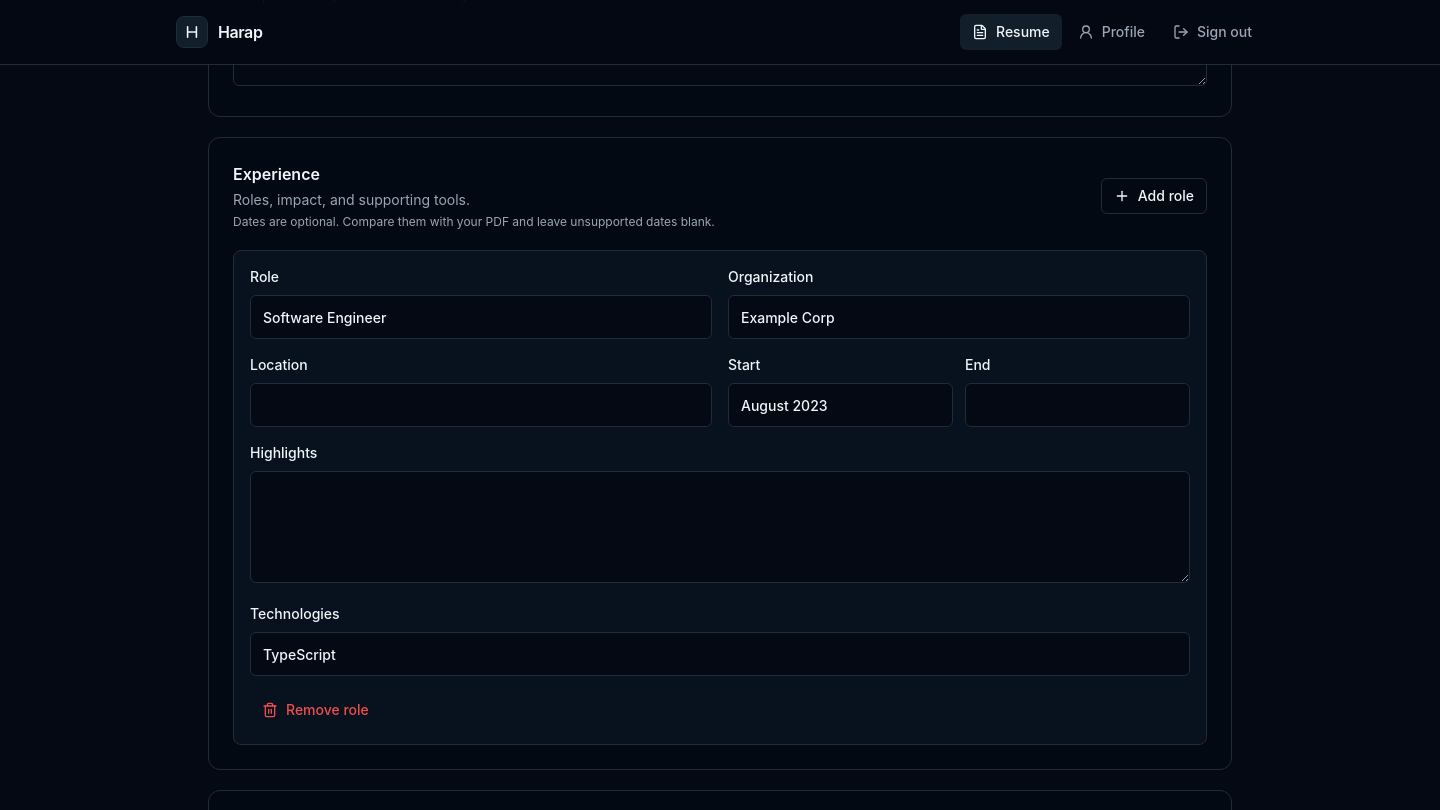
Test: Harap application flows › keeps missing and extracted experience and education dates editable
The image size is (1440, 810).
(page scrolled)
Expected: the field labelled "Start" holds "August 2023", [728,383,953,427]
Step 1. Type "Present" into the field labelled "End" → (1078, 405), box [965,383,1190,427]
(page scrolled)
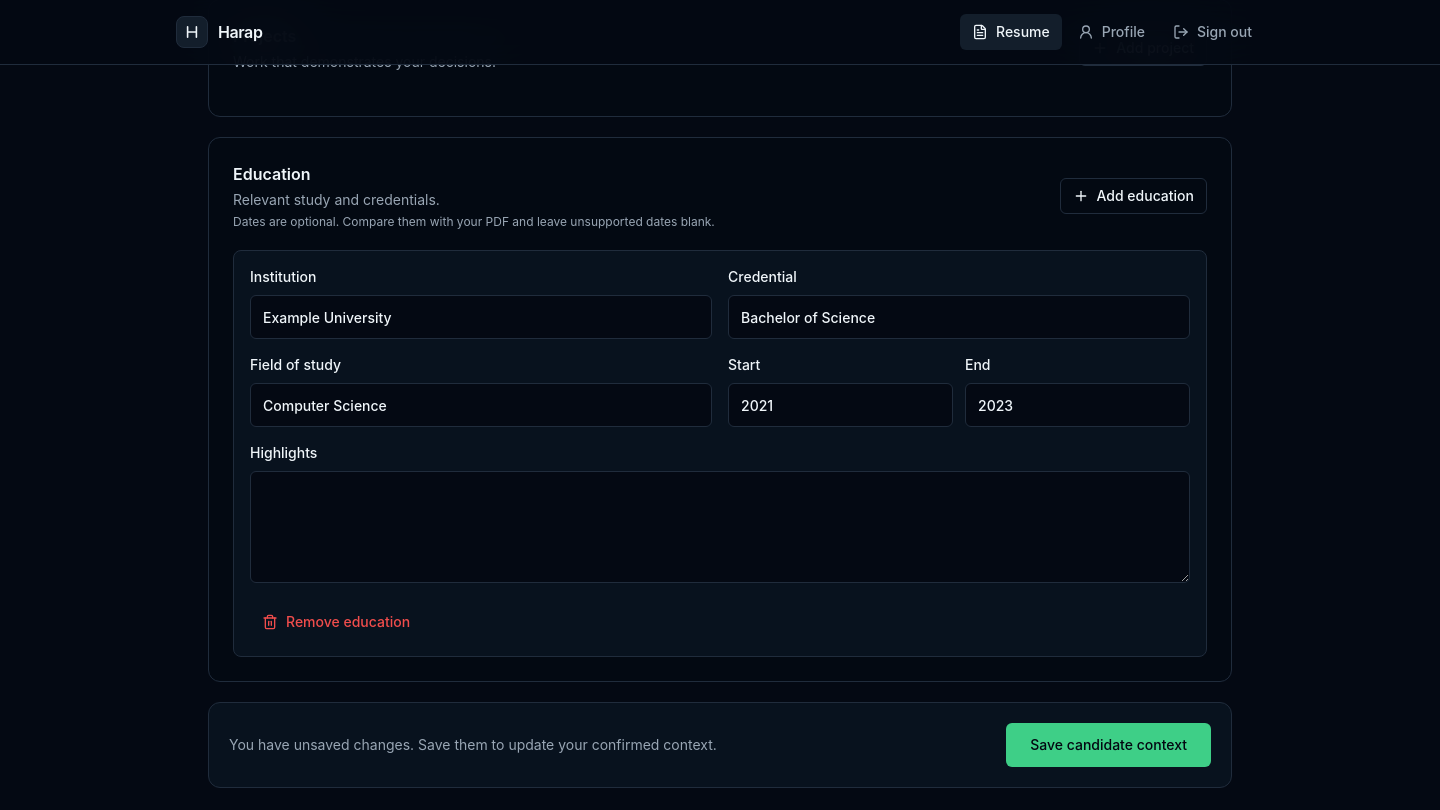
Step 2. Replace the text in the field labelled "Start" with "2020" → (840, 405), box [728,383,953,427]
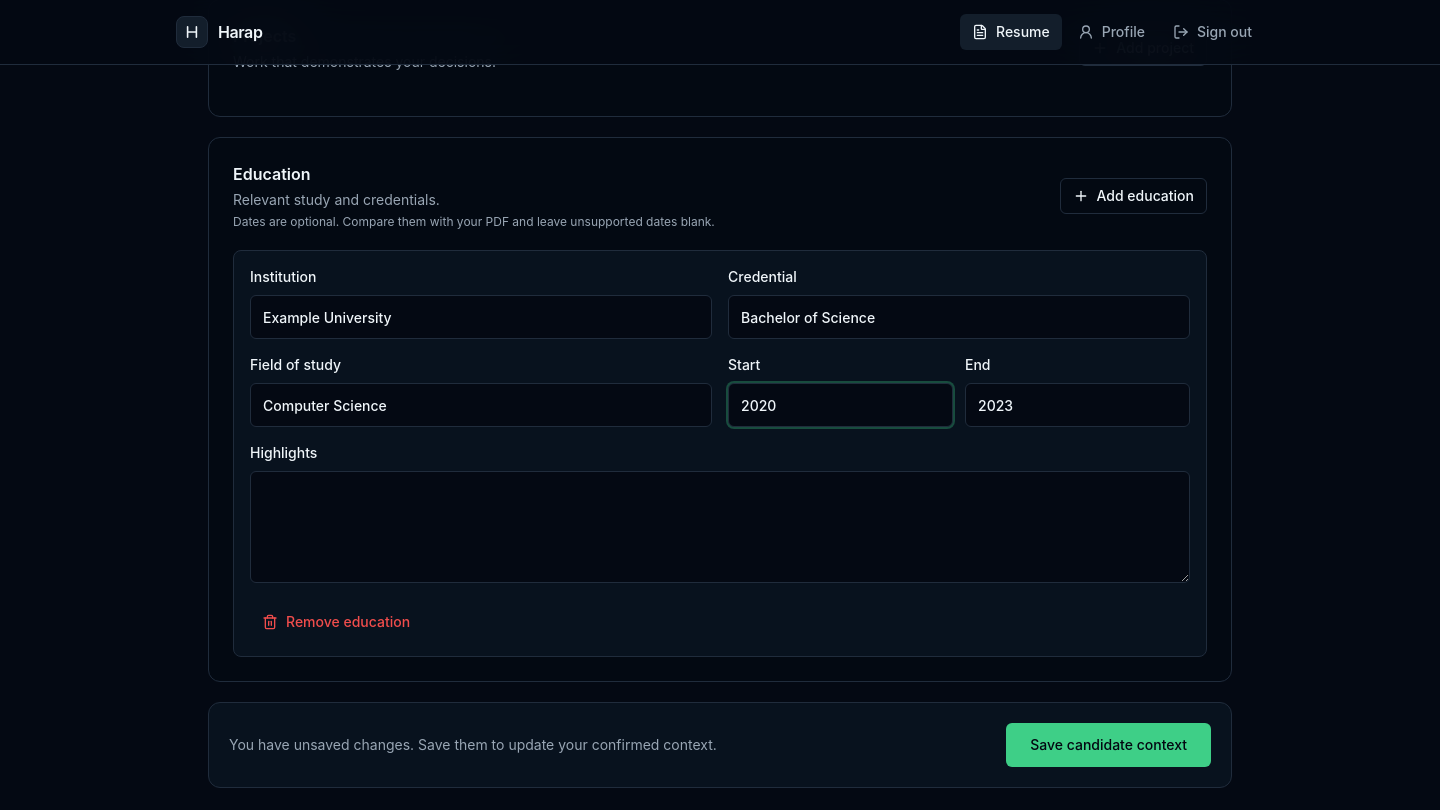
Step 3. Click the button "Save candidate context" → (1109, 745), box [1006,723,1211,767]
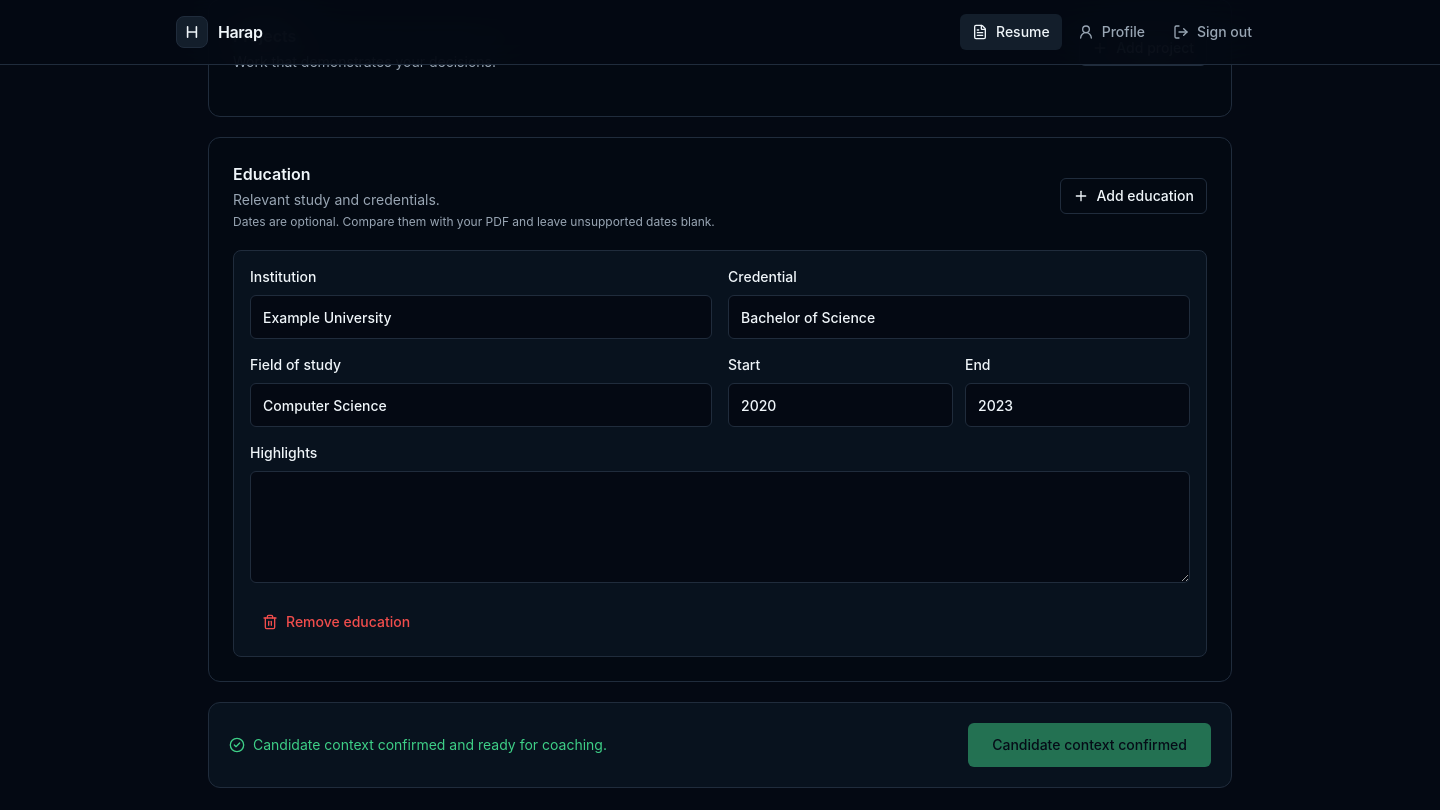
Expected: the text "Candidate context confirmed and ready for coaching." is shown, [229,735,607,755]
